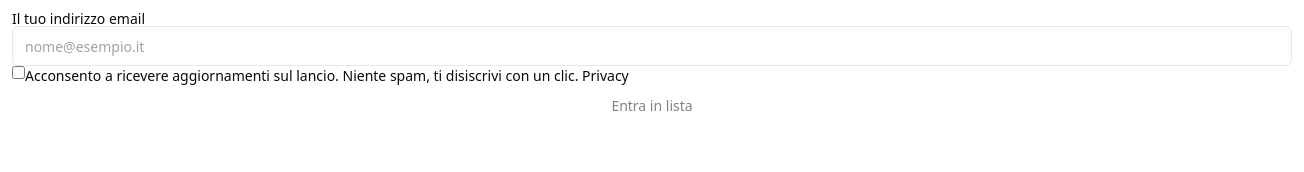
Scenario: PUB-241/242 WaitlistForm — stati, confine /api/waitlist, consenso GDPR › AC-241-2 (contro-prova): non-2xx => testo error (la UI non inventa un successo)
In the field labelled "Il tuo indirizzo email": coordinates (652, 46) [12, 26, 1292, 66], type "mario@bar.it"
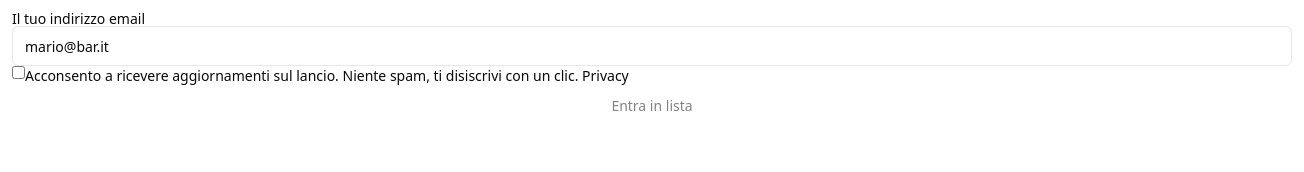
Click the checkbox: coordinates (18, 72) [12, 66, 25, 79]
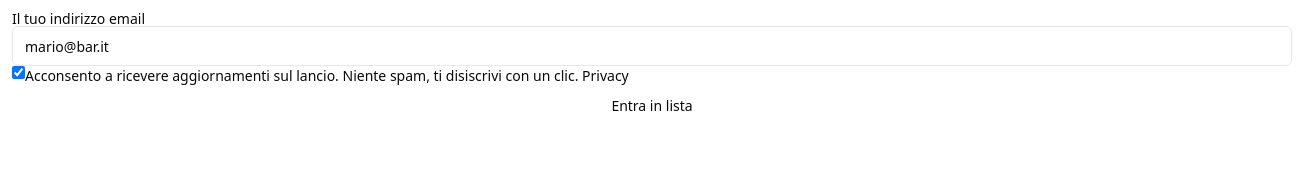
Click the button "Entra in lista": coordinates (652, 106) [12, 86, 1292, 126]
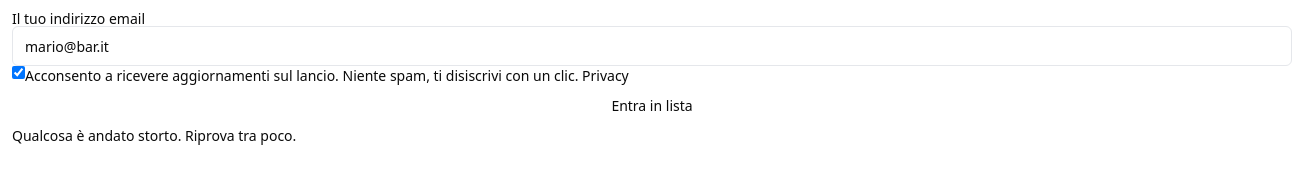
Expected: the text "Qualcosa è andato storto. Riprova tra poco." is shown, [12, 126, 296, 145]
